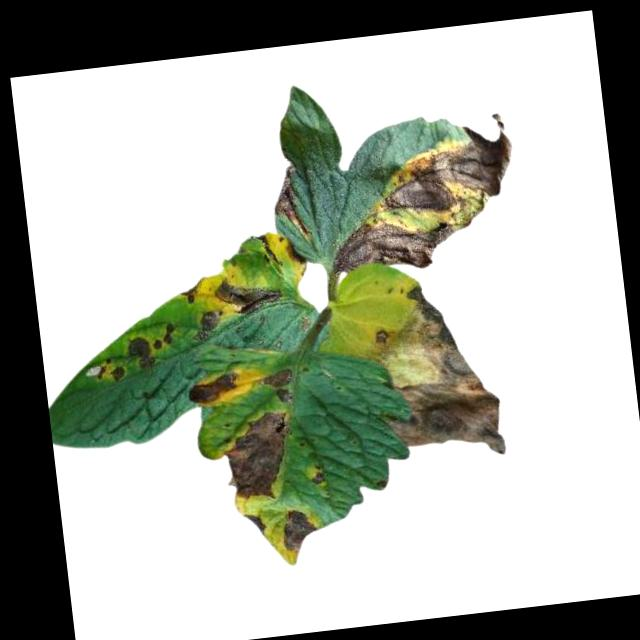Early_blight: (365, 275, 507, 470), (356, 112, 518, 221), (327, 209, 476, 278), (217, 405, 299, 504), (214, 272, 285, 321), (270, 162, 311, 241), (182, 367, 247, 410), (279, 502, 319, 552), (259, 367, 296, 407), (123, 335, 154, 368), (94, 354, 127, 384), (189, 310, 220, 338), (176, 280, 206, 308), (242, 509, 267, 537), (148, 323, 176, 348), (283, 241, 306, 267), (308, 459, 324, 486)
